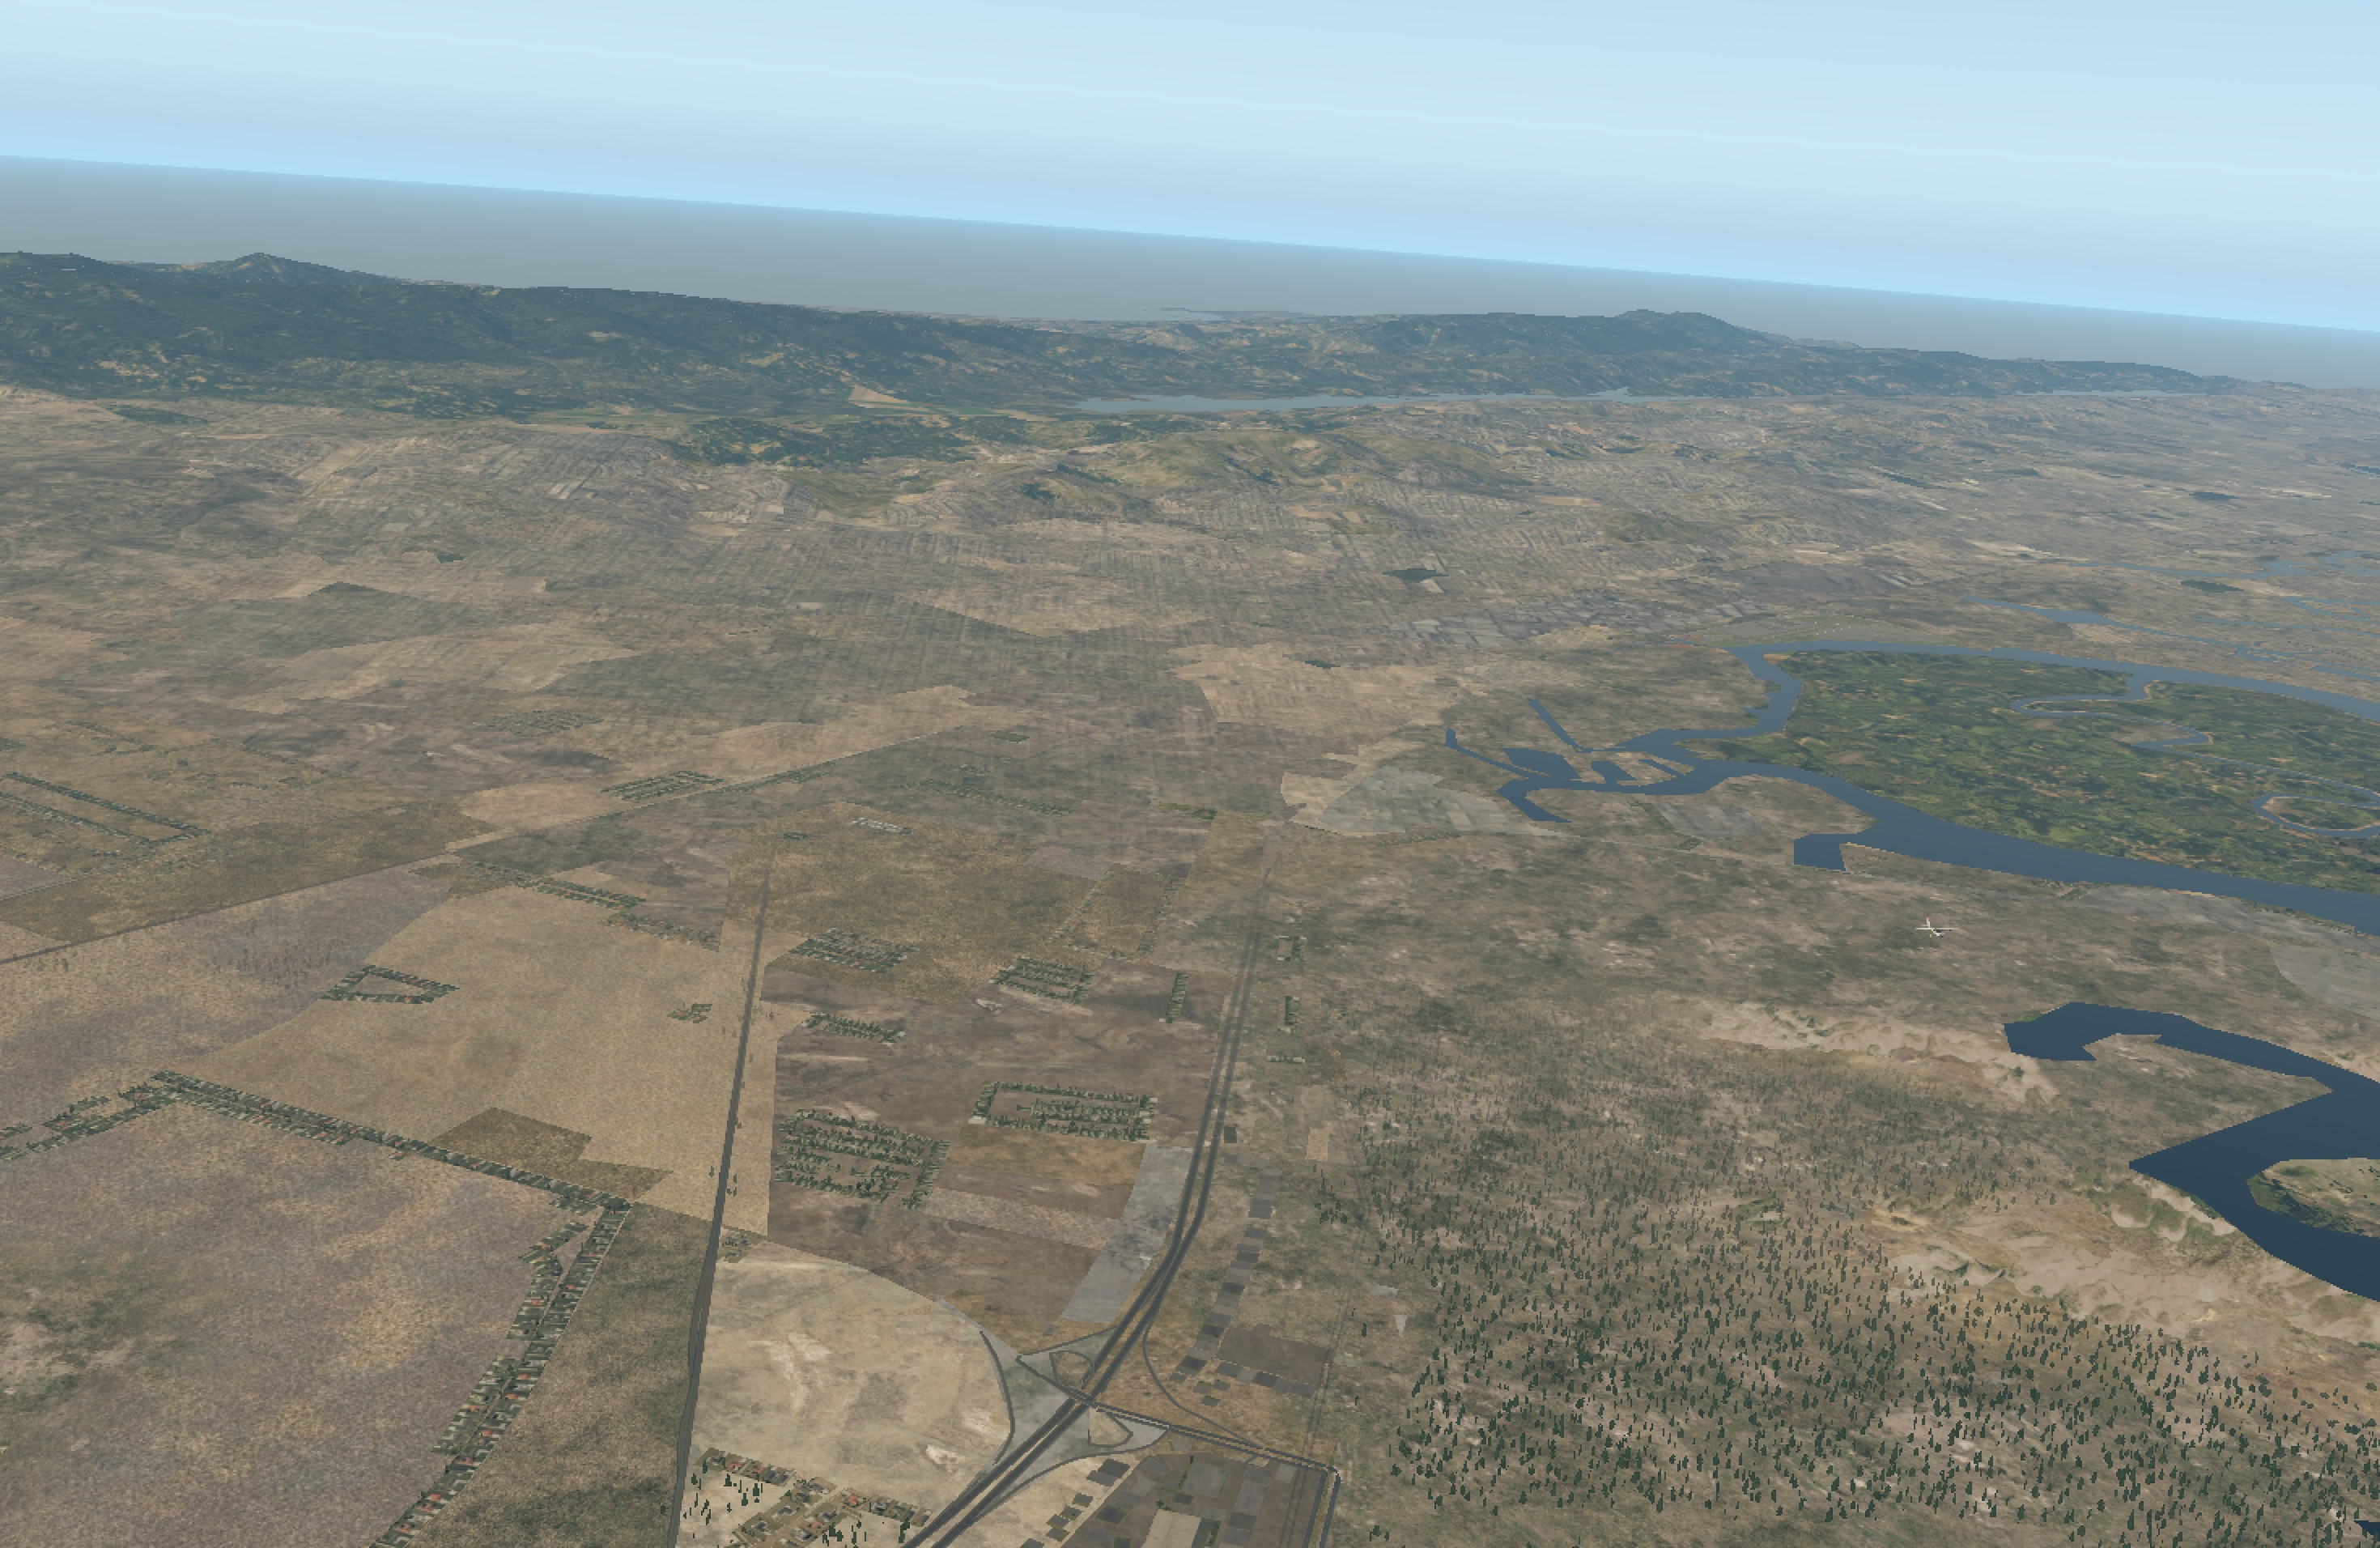aircraft: (1922, 925, 1955, 939)
